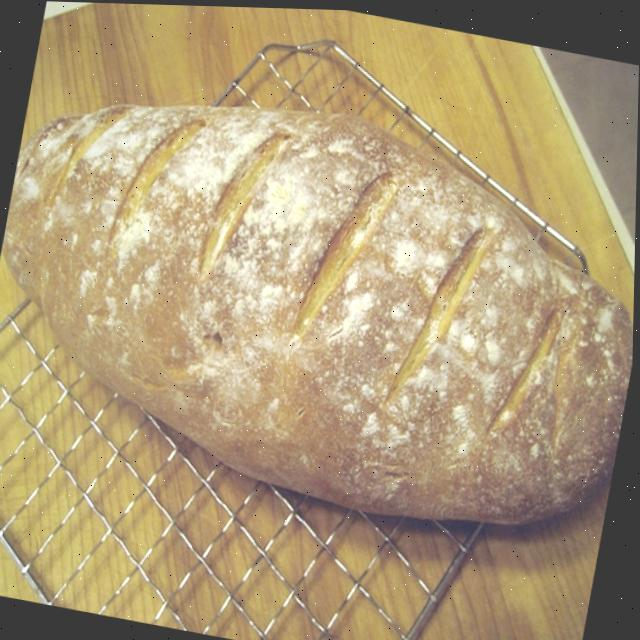面包点心: (0, 53, 639, 557)
